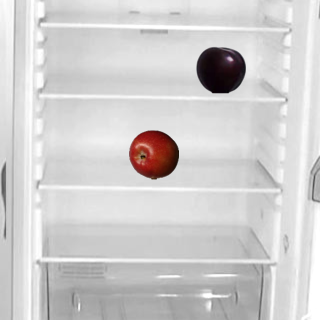Apple Braeburn: (128, 129, 178, 179)
Cherry Wax Black: (195, 44, 245, 94)
